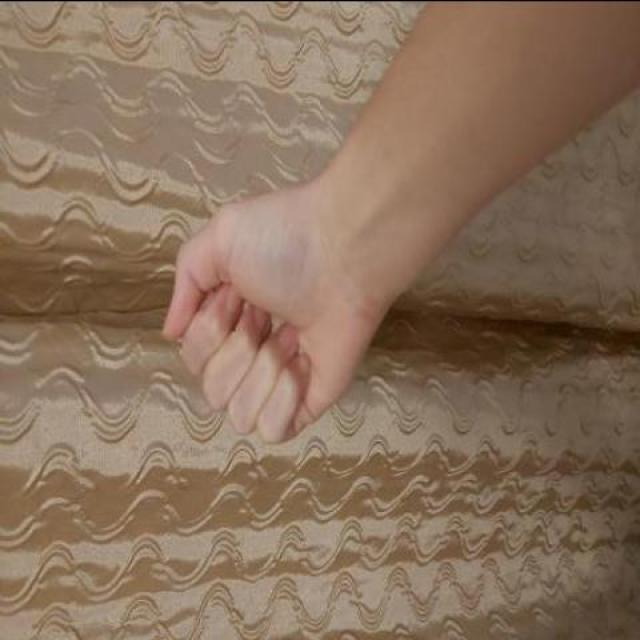fist: (153, 167, 398, 450)
